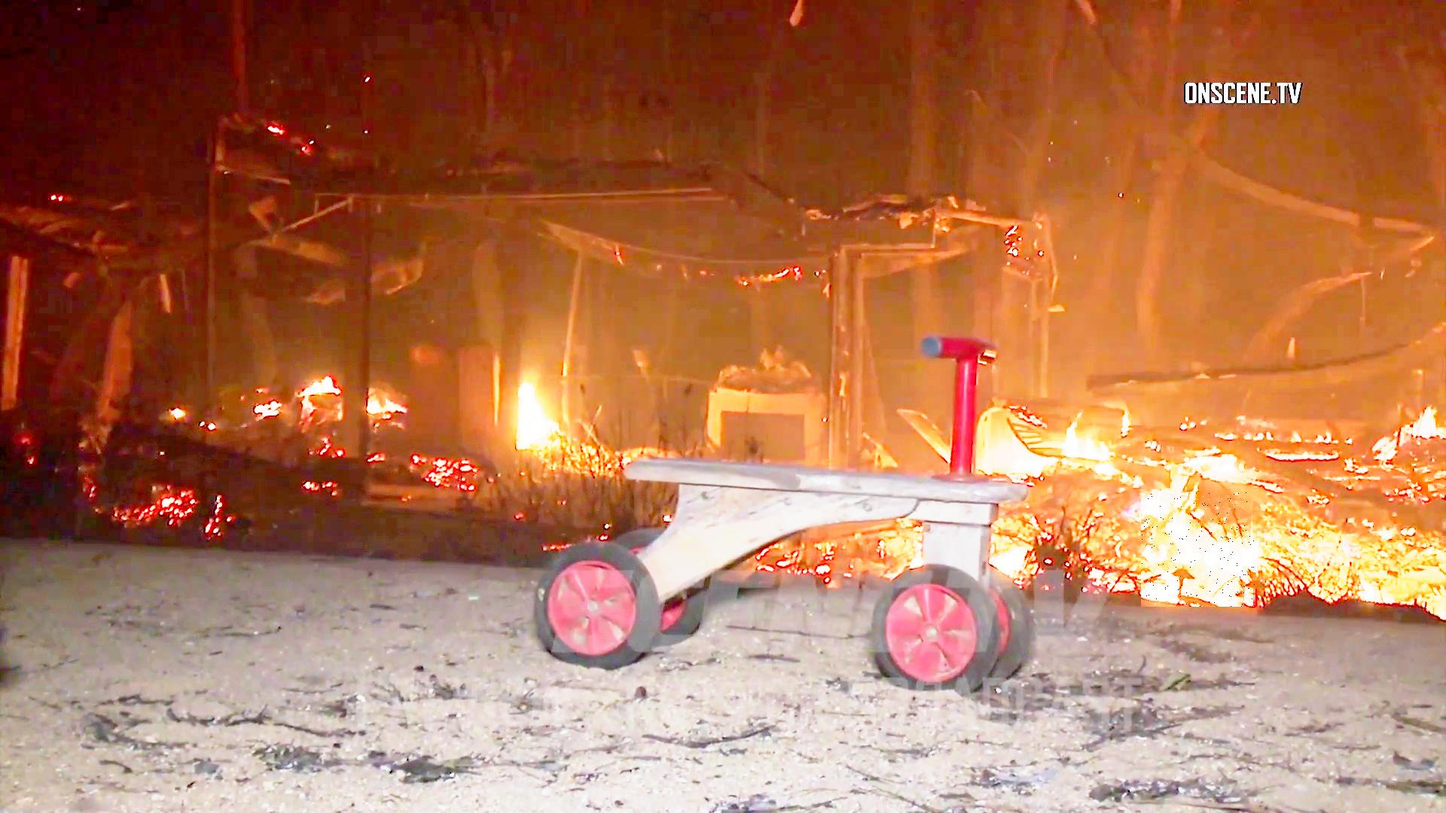fire: (1141, 492, 1255, 607)
